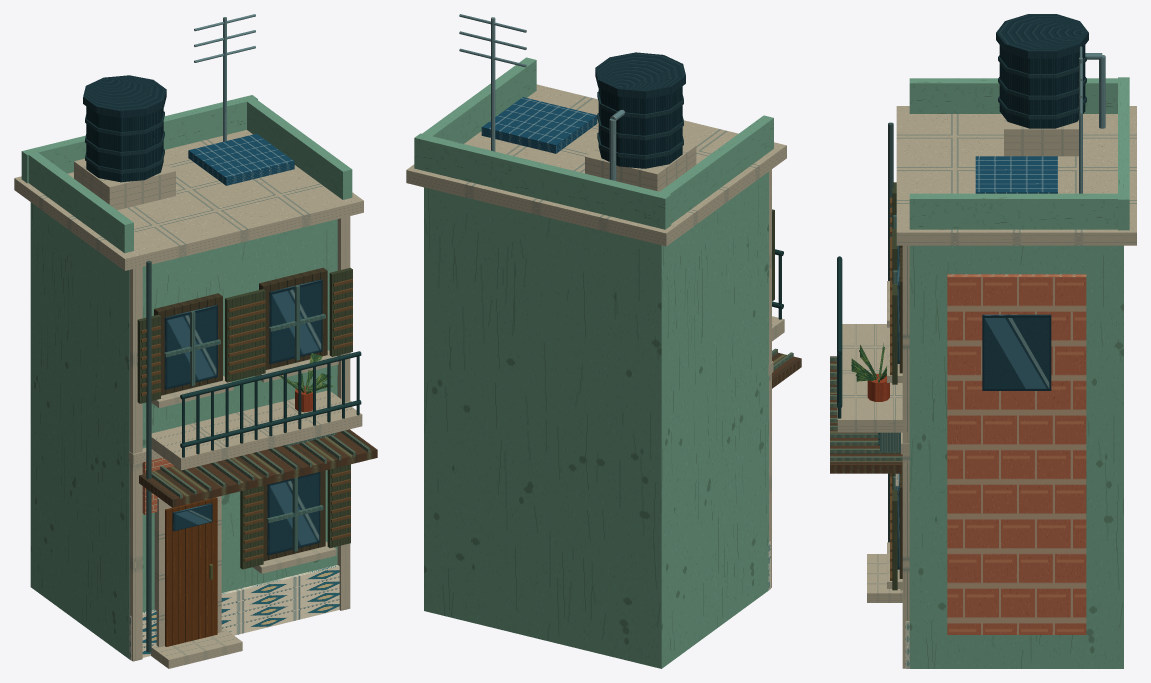
Rendered from townhouse-teal.glb.
The picture shows the model from 3 angles, left to right: view 1: azimuth 30°, elevation 25°; view 2: azimuth 150°, elevation 25°; view 3: azimuth 270°, elevation 25°; orthographic projection. The views are drawn at different scales.
Visible parts, largest first — view 1: townhouse-teal; view 2: townhouse-teal; view 3: townhouse-teal.
Boxes of the visible parts, bbox=[...] form: townhouse-teal: bbox=[14, 14, 377, 668]; townhouse-teal: bbox=[406, 14, 801, 668]; townhouse-teal: bbox=[830, 14, 1136, 668].
Size of the model in its own units: 2.52 by 5.45 by 2.58.
Materials: 1 (1 with a texture image).
